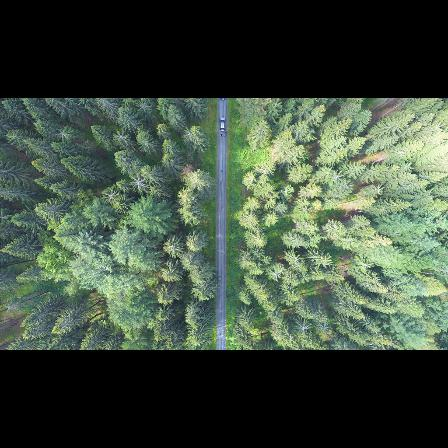Sick: (129, 171, 152, 194), (55, 122, 74, 145), (113, 130, 134, 146), (315, 318, 331, 338), (295, 318, 312, 336), (181, 126, 200, 142), (103, 188, 119, 205), (330, 170, 343, 184)
